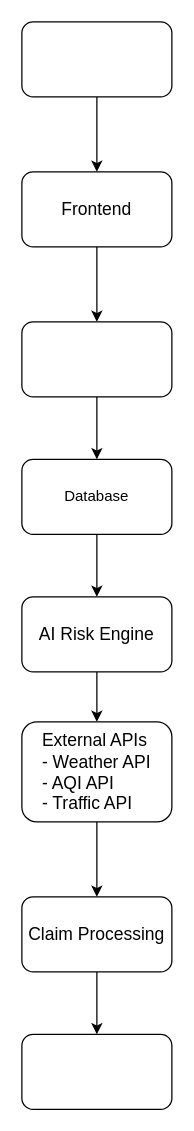
Some shapes in this 194 by 1131 pixel diagram are drawn without their labels. Here are the shapes that lost their labels. From the top down, the centre of each, then its label:
point (96, 59): Worker App
point (96, 359): Backend
point (96, 1071): Payment Simulation
